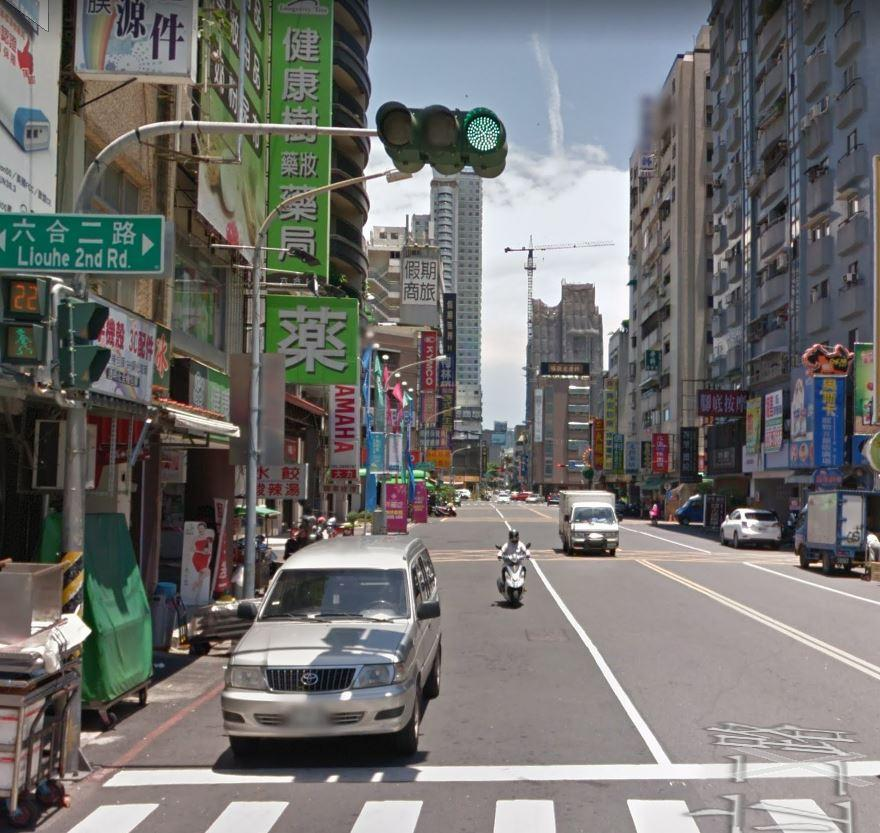car: (217, 524, 446, 754), (716, 504, 788, 545)
green_traffic_light: (373, 101, 510, 183)
motorcycle: (490, 540, 535, 604)
truck: (556, 490, 628, 564)
